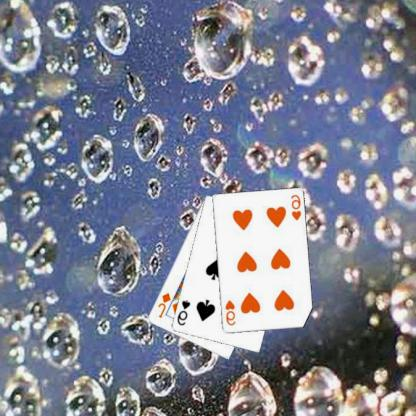6H: (290, 192, 304, 222), (224, 298, 238, 327)
6S: (176, 298, 193, 326)
JD: (157, 290, 173, 319)
